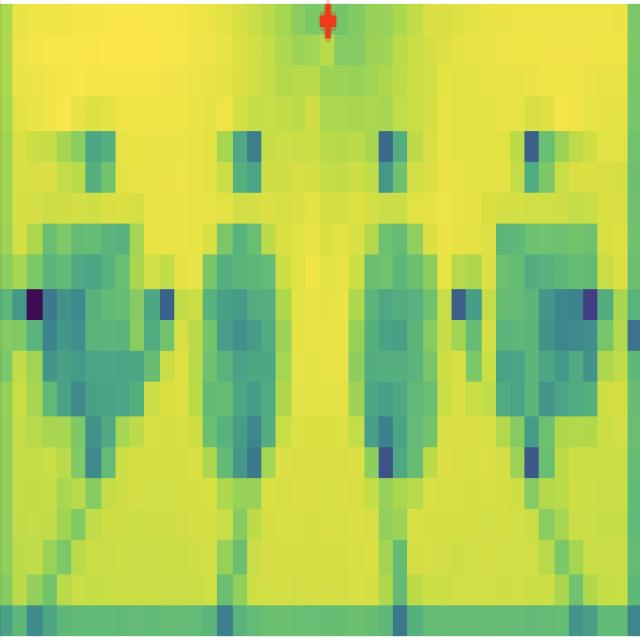Concrete: (41, 222, 146, 420)
Glass: (494, 218, 599, 418)
Metal: (196, 219, 280, 491)
Wood: (355, 222, 439, 472)
